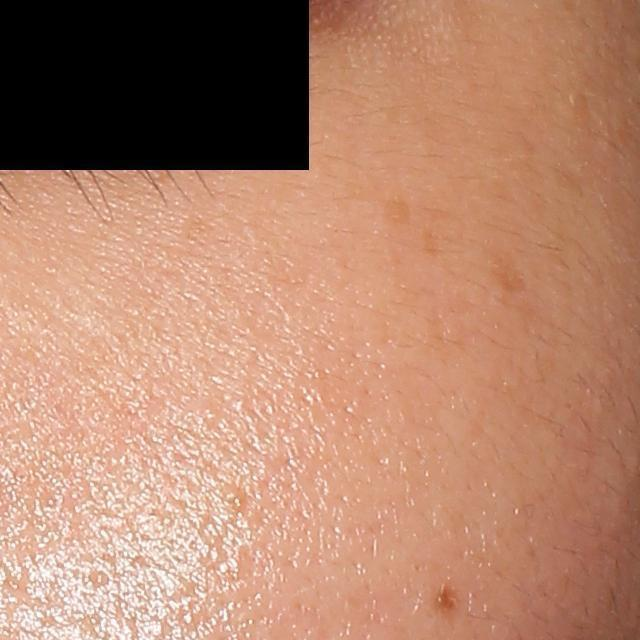melasma: (483, 236, 538, 297), (380, 201, 413, 234), (419, 227, 441, 264)
nevus: (432, 577, 471, 616)
